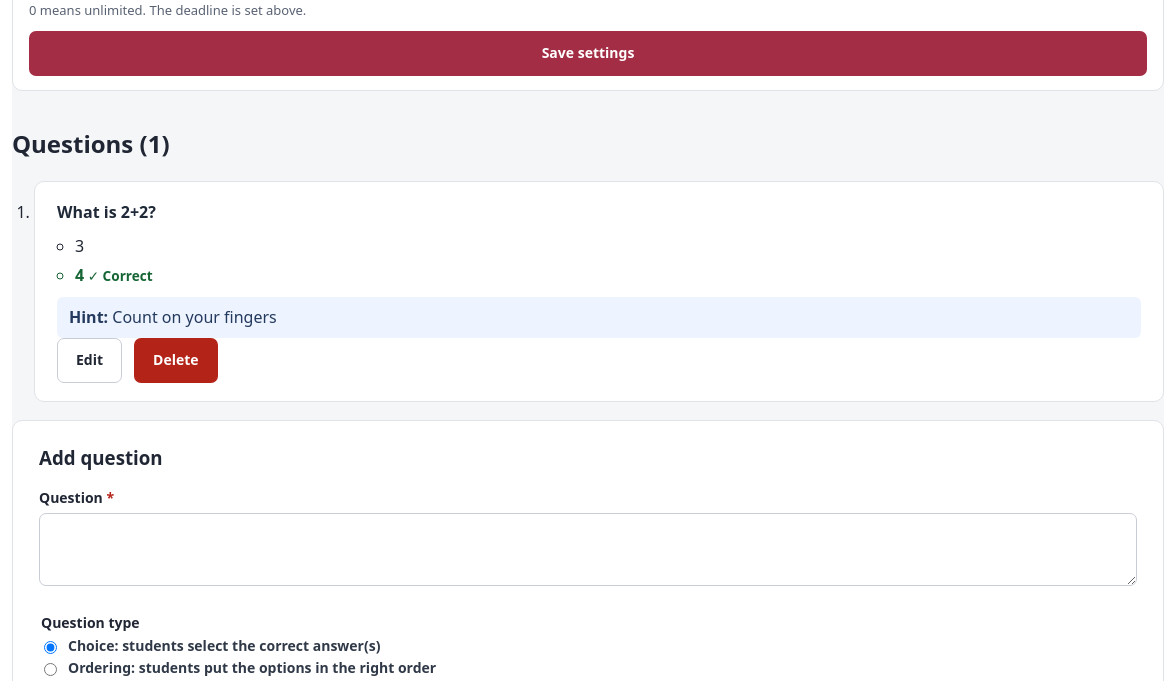
Test: QuizEditor › deletes a question after confirmation
This screenshot has width=1164, height=681.
(page scrolled)
Click the button "Delete": x=176, y=360 [134,338,218,383]
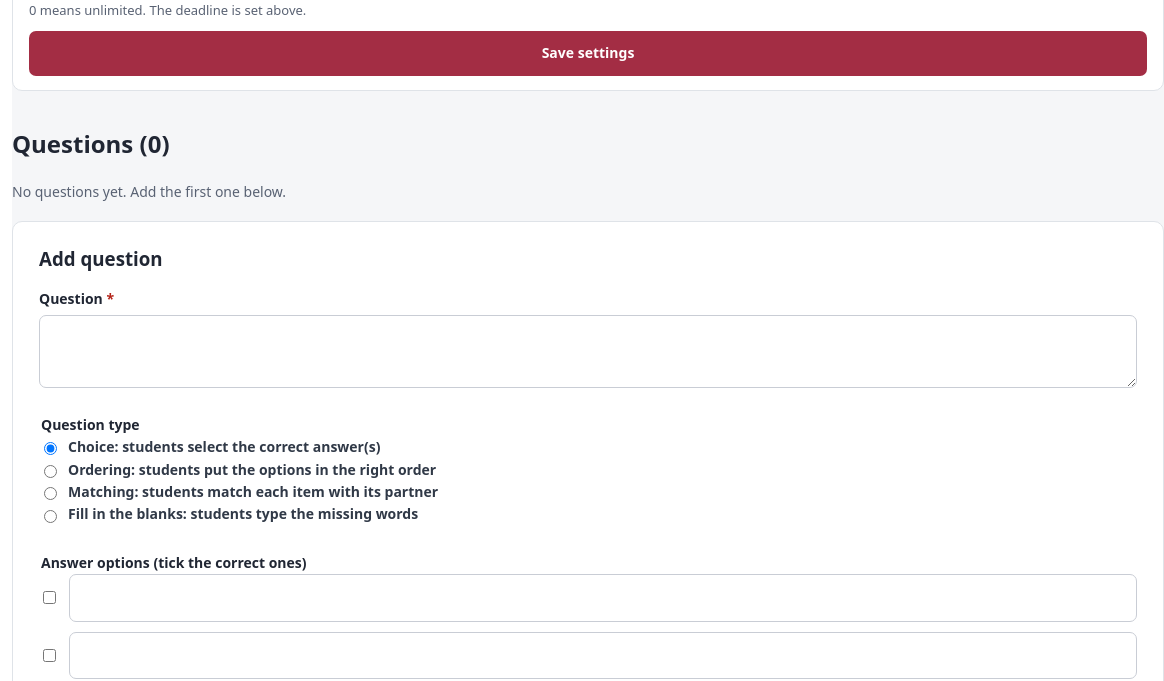
expect the text "What is 2+2?" is gone: met
